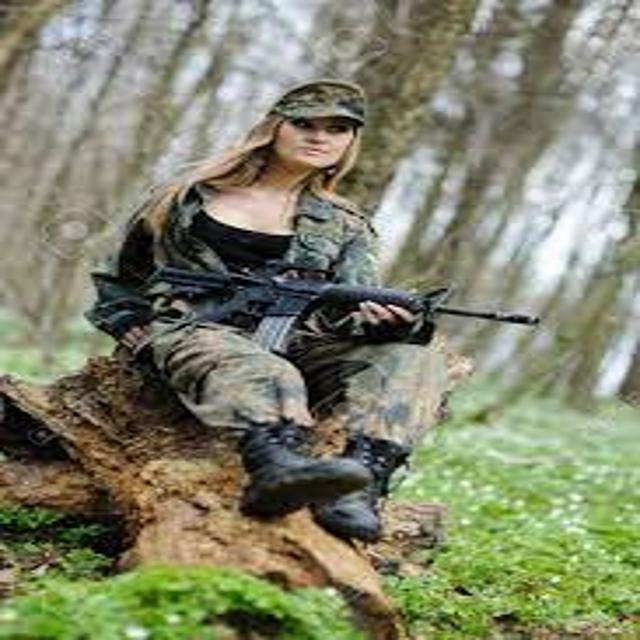gun: (75, 238, 558, 384)
ranger: (58, 67, 511, 563)
